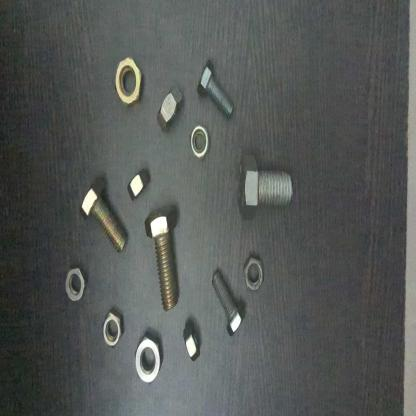Bolts: (72, 168, 130, 258), (140, 205, 188, 311), (233, 147, 296, 219), (206, 261, 246, 339), (198, 53, 240, 124)
NUTS: (111, 44, 144, 110), (131, 331, 167, 386), (156, 75, 185, 135), (101, 300, 125, 355), (126, 155, 152, 205), (63, 262, 88, 312), (238, 254, 264, 298), (181, 320, 201, 364), (189, 123, 210, 163)
